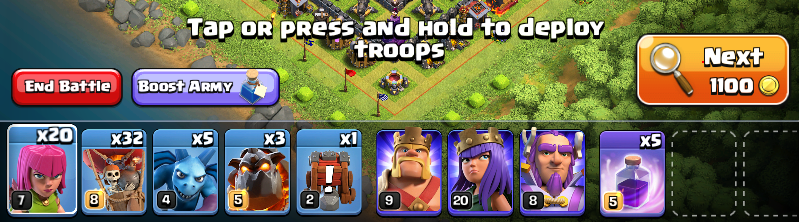archer: (10, 143, 80, 215)
king: (380, 128, 444, 215)
loon: (83, 148, 143, 212)
minion: (151, 146, 221, 214)
queen: (452, 127, 515, 214)
rage: (602, 149, 669, 218)
seigemachine: (300, 147, 360, 215)
warden: (523, 128, 588, 216)
